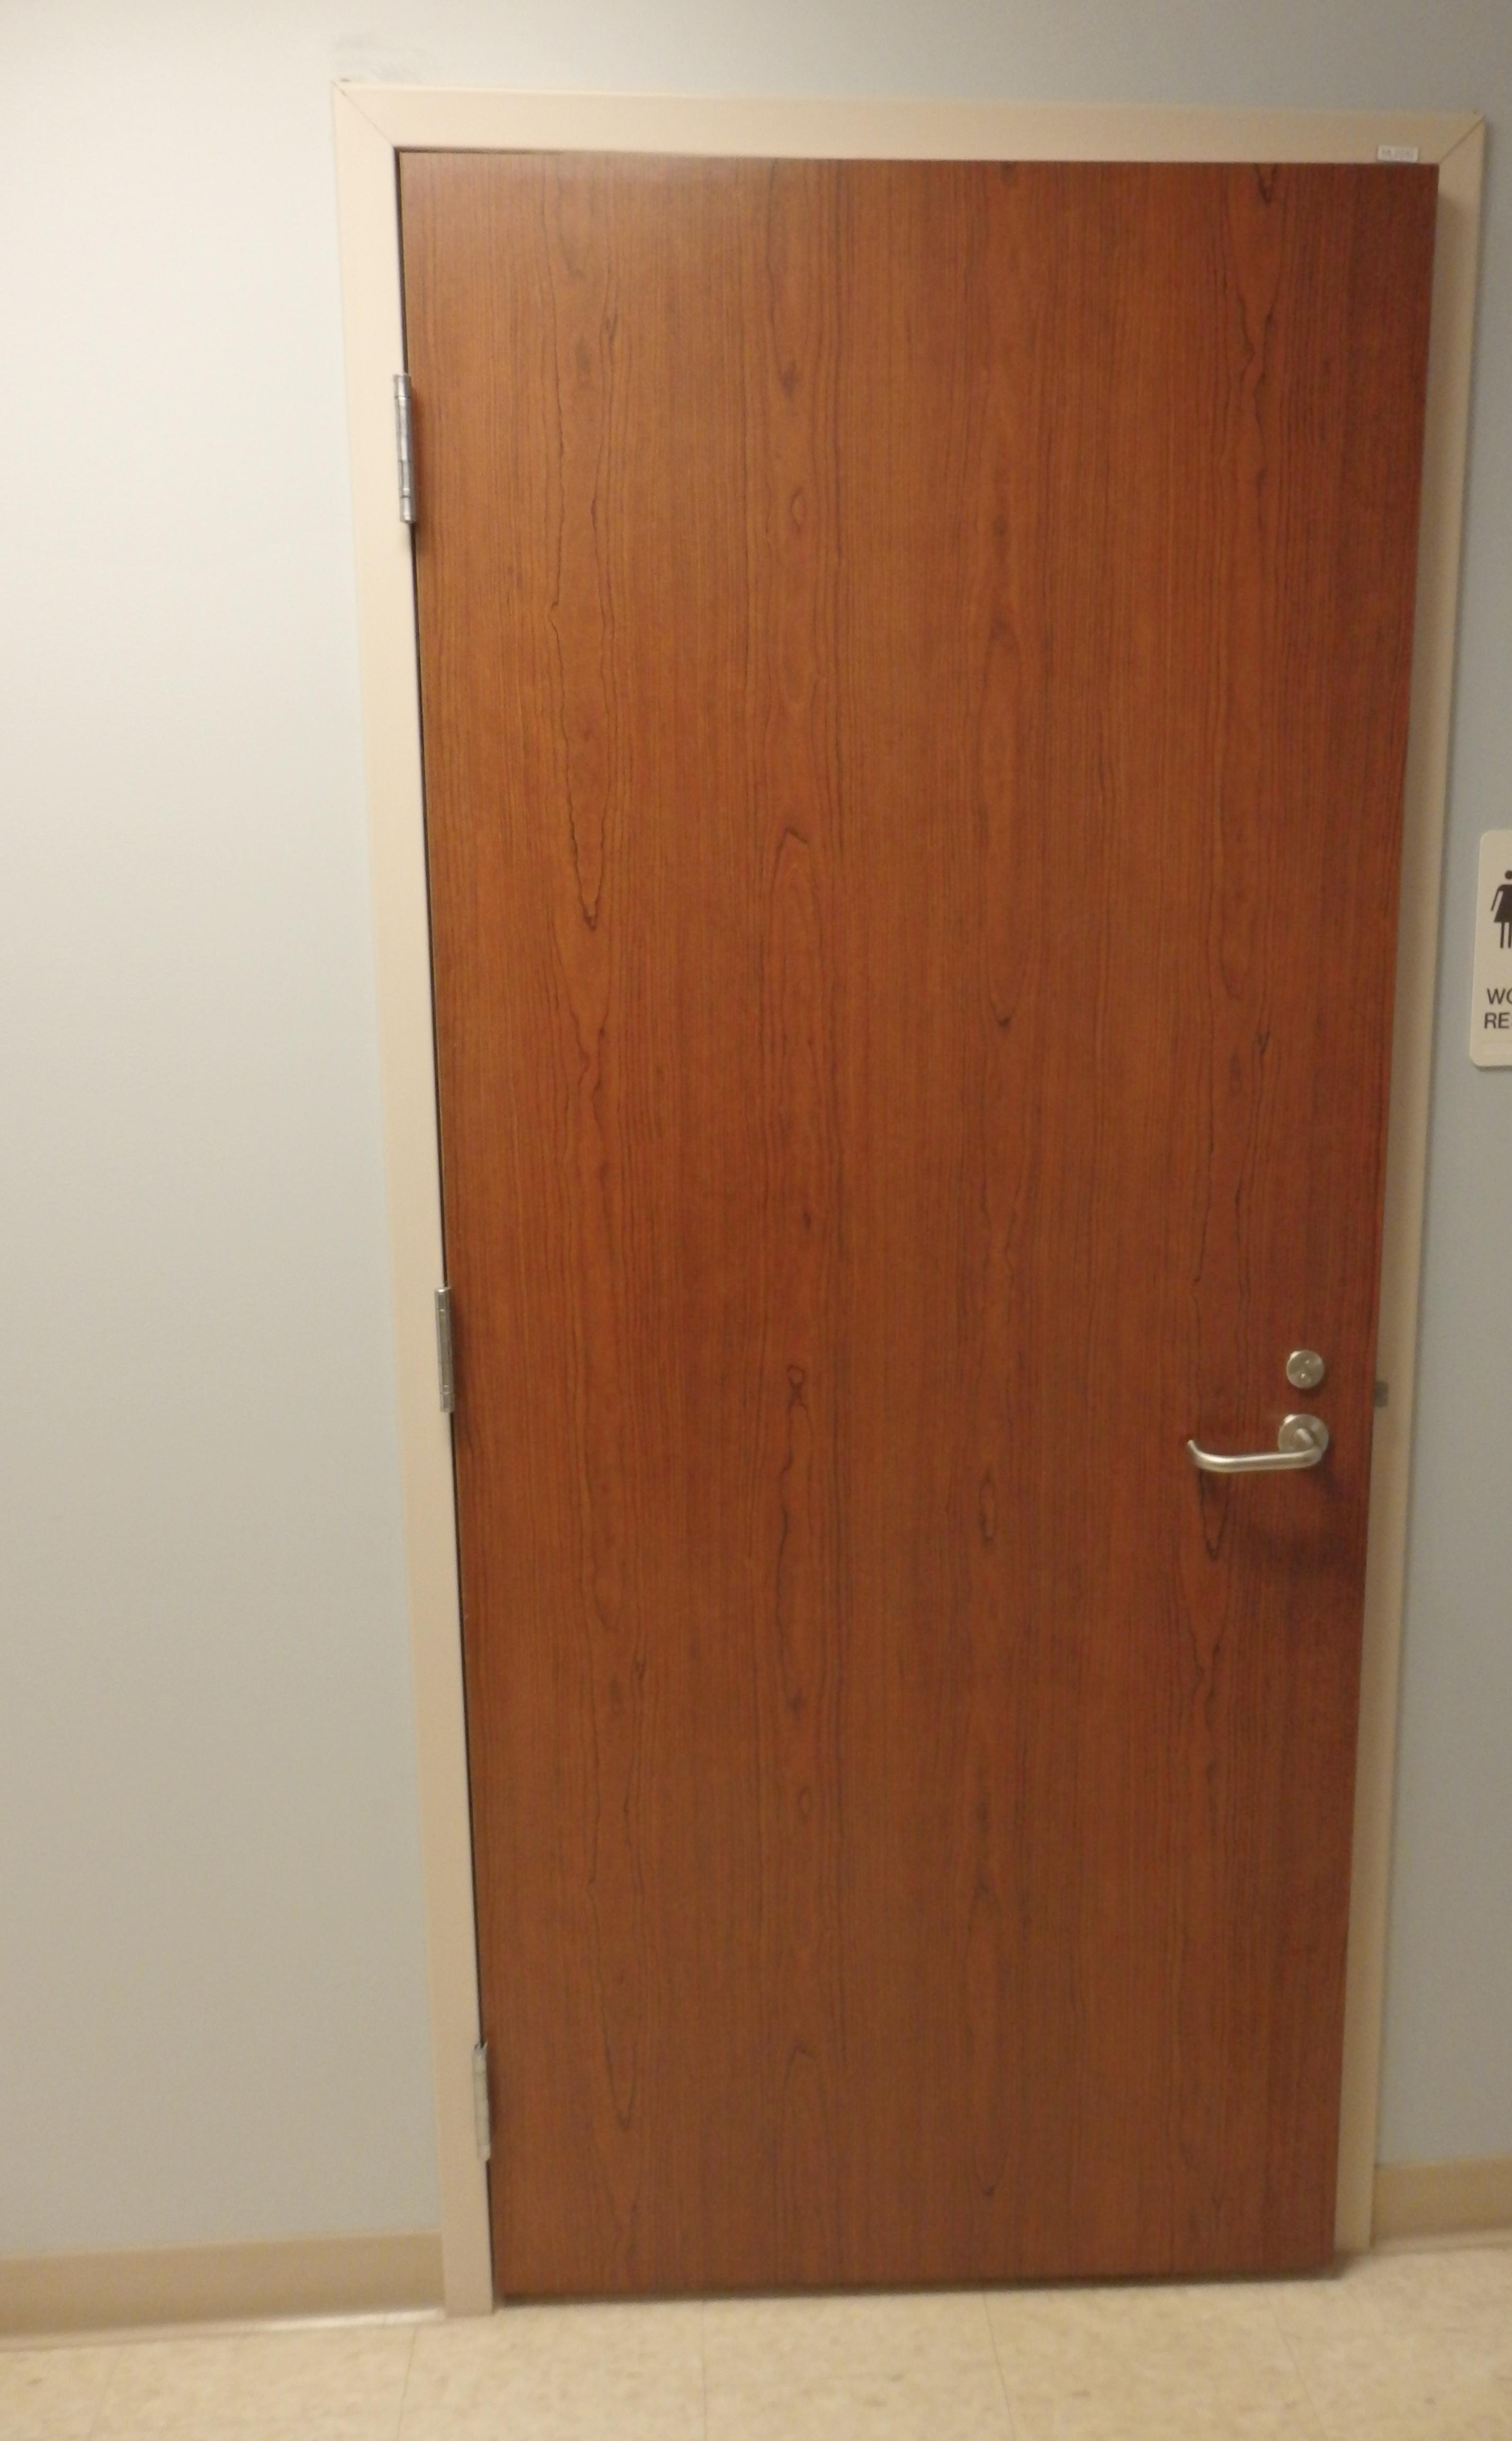door: (412, 152, 1458, 2319)
